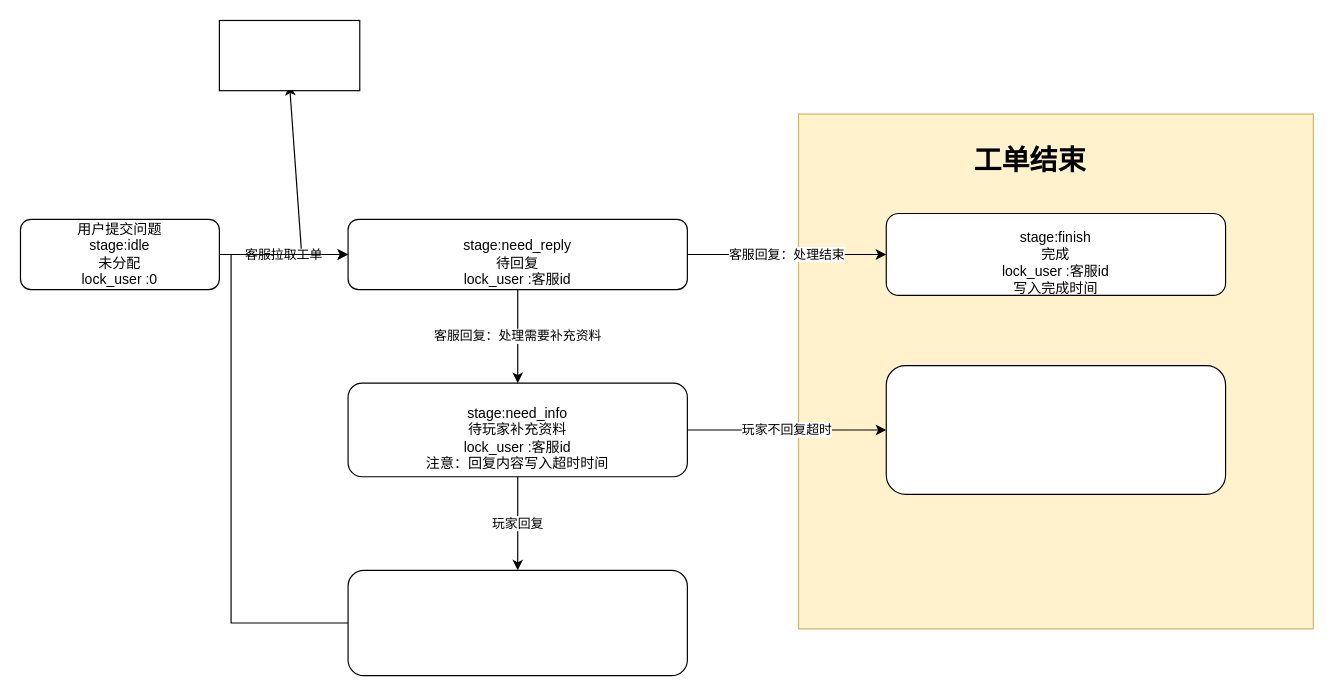
Image size: 1334x696. Some labels were removed from this diagram. The shapes that lost their labels are listed below. From the top down, each one's centre as x and y in pixels, then its label:
At (1055,429): "stage:timeout 超时结单 lock_user :客服id 写入完成时间 注意：回复内容写入超时时间 该条回复结束".
At (517,622): "stage:idle 待玩家补充资料 lock_user :0 last_lock_user：客服id 注意：该条回复结束".
